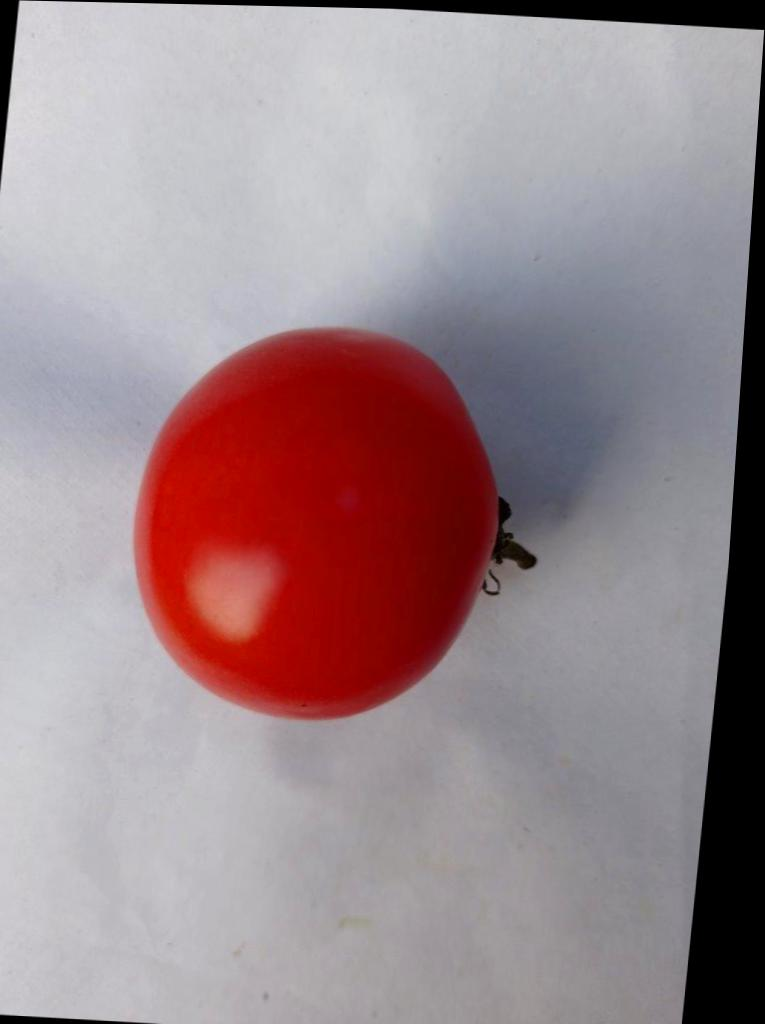tomato: (134, 329, 535, 719)
